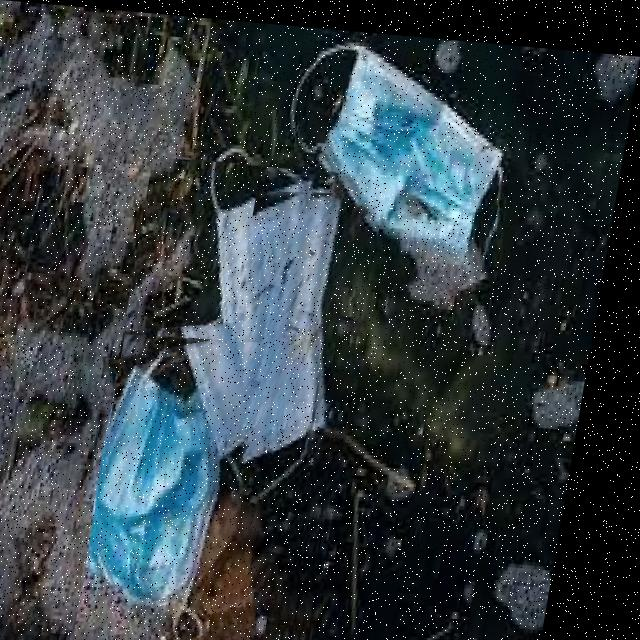litter: (91, 153, 395, 640), (279, 22, 545, 285), (94, 327, 313, 640), (227, 180, 361, 454)
